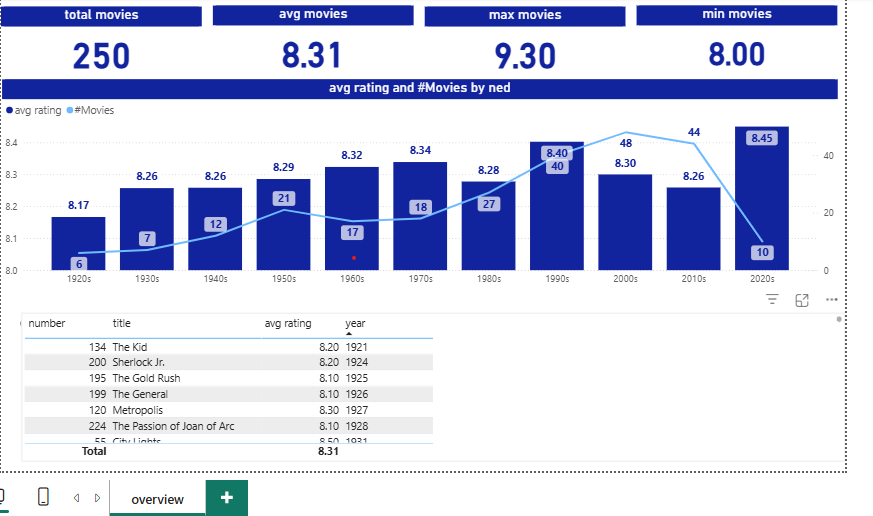

The page's visual inventory and layout, read from the dashboard file:
{"tool":"powerbi","page":{"name":"overview","canvas":[1280,720],"ordinal":0},"visuals":[{"type":"card","title":"total movies","fields":{"Values":["top 250 movies.#Measure"]},"box":[0,15.1,305,110],"z":0},{"type":"card","title":"min movies","fields":{"Values":["top 250 movies.min rating"]},"box":[965,13.6,305,110.2],"z":1000},{"type":"card","title":"max movies","fields":{"Values":["top 250 movies.MAX rating"]},"box":[643.3,15.1,305,110],"z":2000},{"type":"card","title":"avg movies","fields":{"Values":["top 250 movies.avg rating"]},"box":[321.7,13.6,305,110.2],"z":3000},{"type":"lineStackedColumnComboChart","fields":{"Category":["top 250 movies.ned","top 250 movies.year"],"Y":["top 250 movies.avg rating"],"Y2":["top 250 movies.#Measure"]},"box":[1.6,125,1268.2,323.1],"z":4000},{"type":"tableEx","box":[20,478.5,1250,204],"z":5000},{"type":"tableEx","fields":{"Values":["top 250 movies.number","top 250 movies.title","top 250 movies.avg rating","top 250 movies.year"]},"box":[30.2,478.7,1250.4,226.5],"z":6000}]}

Visuals, with their boxes on the page's 1280x720 design canvas (x1, y1, x2, y2). These are canvas units, not pixel positions in the 873x516 screenshot, which may show the page scaled, cropped or inside an application window:
"total movies" card: <box>0,15,305,125</box>
"min movies" card: <box>965,14,1270,124</box>
"max movies" card: <box>643,15,948,125</box>
"avg movies" card: <box>322,14,627,124</box>
lineStackedColumnComboChart - top 250 movies.ned x top 250 movies.year: <box>2,125,1270,448</box>
tableEx: <box>20,478,1270,682</box>
tableEx - top 250 movies.number x top 250 movies.title: <box>30,479,1281,705</box>
